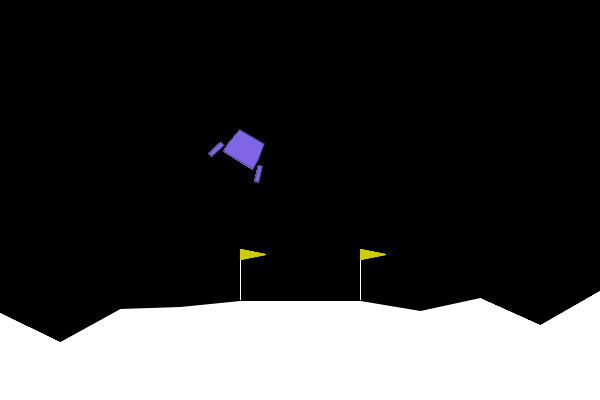lander: (206, 120, 278, 185)
